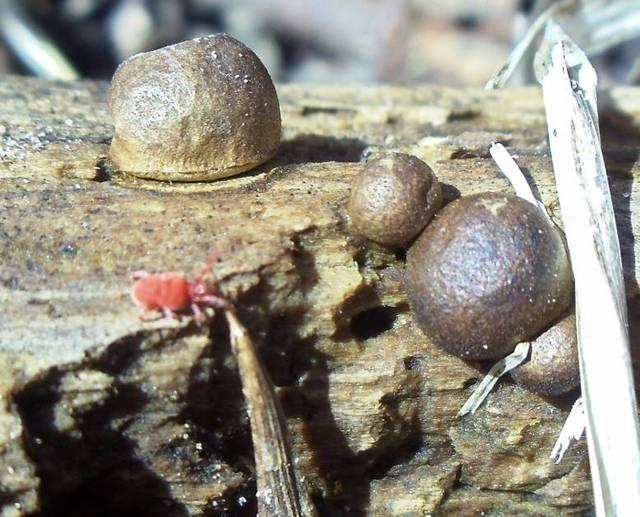Non-edible Mushroom: (402, 190, 574, 362), (106, 31, 282, 182), (344, 149, 442, 248)
